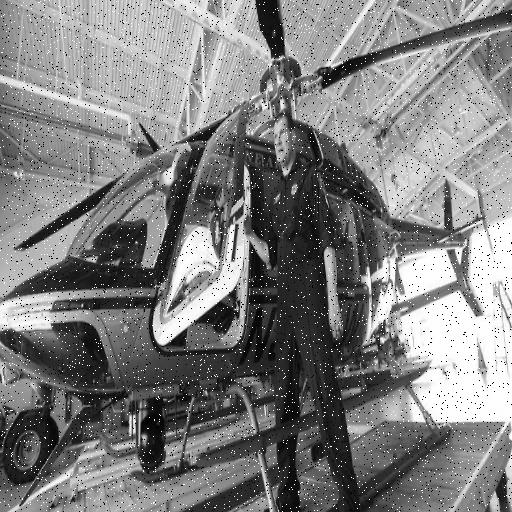helicopter: (4, 23, 500, 468)
